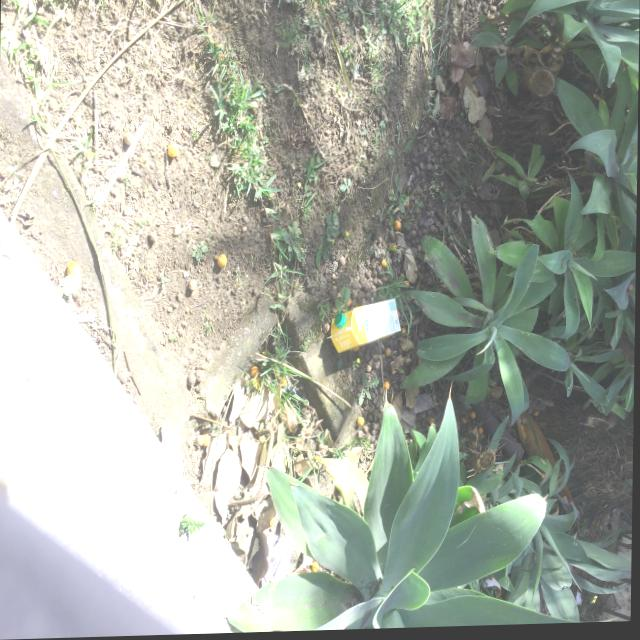Cardboard: (318, 299, 407, 363)
Plastic: (96, 119, 149, 211), (334, 312, 348, 333)
